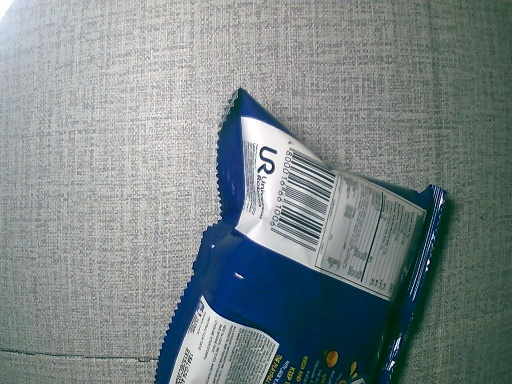plastic: (150, 88, 445, 384)
